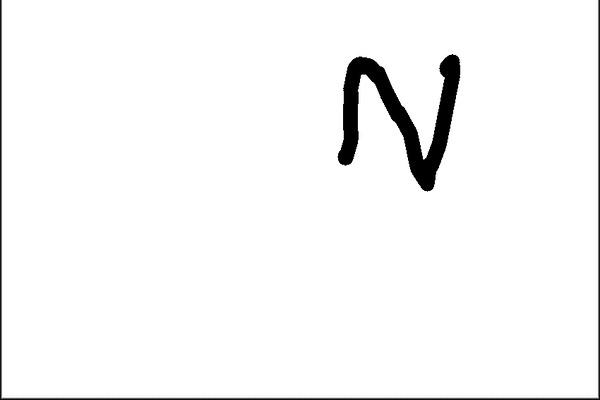N: (330, 48, 466, 198)
